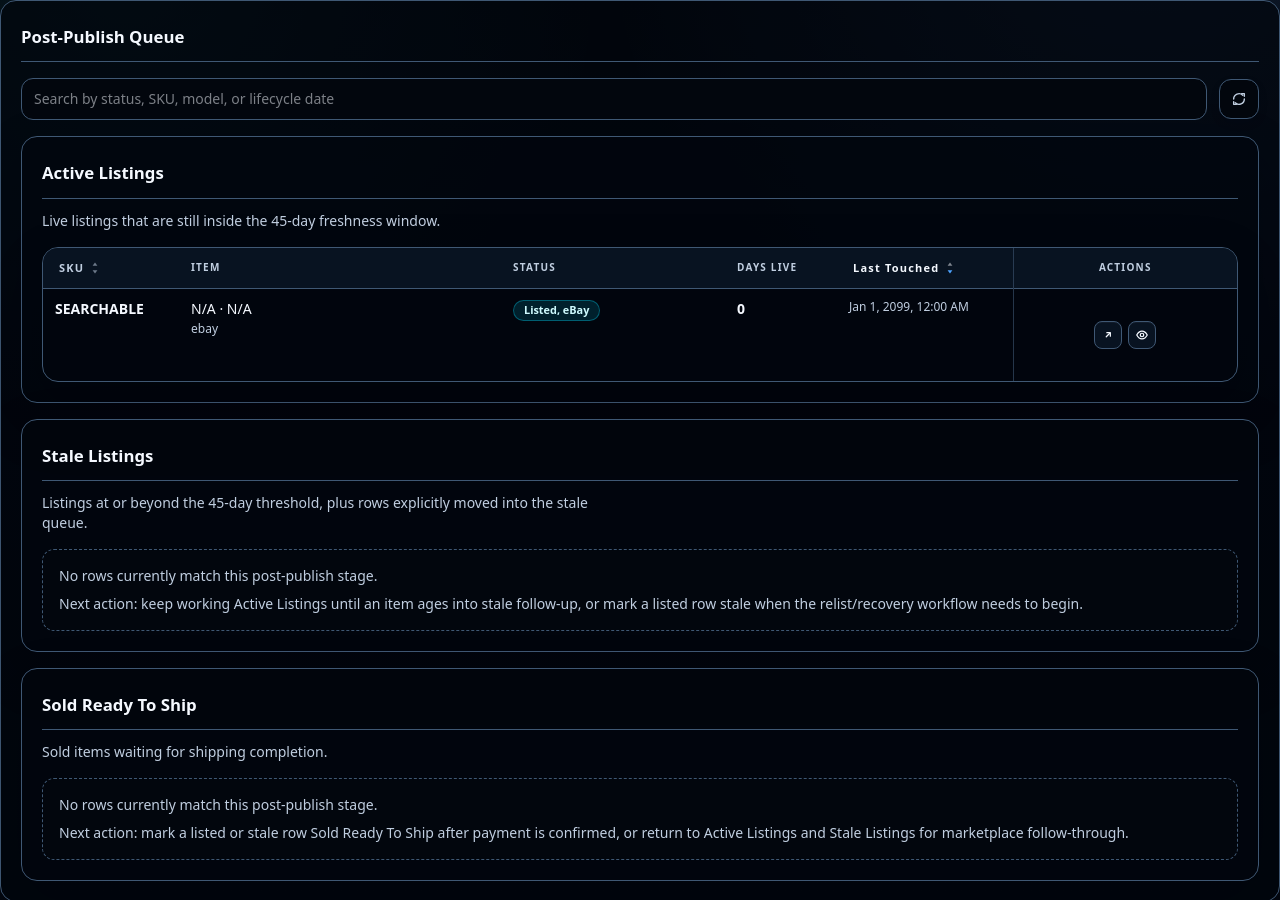
UsedGearWorkflowPostPublishSection › distinguishes a global search with no matches from a genuinely empty queue
Expected: the text "SEARCHABLE" is shown, [55,299,144,318]
In the field named "Search used gear post-publish queue": (614, 99) [21,78,1207,120], type "no-matching-listing"
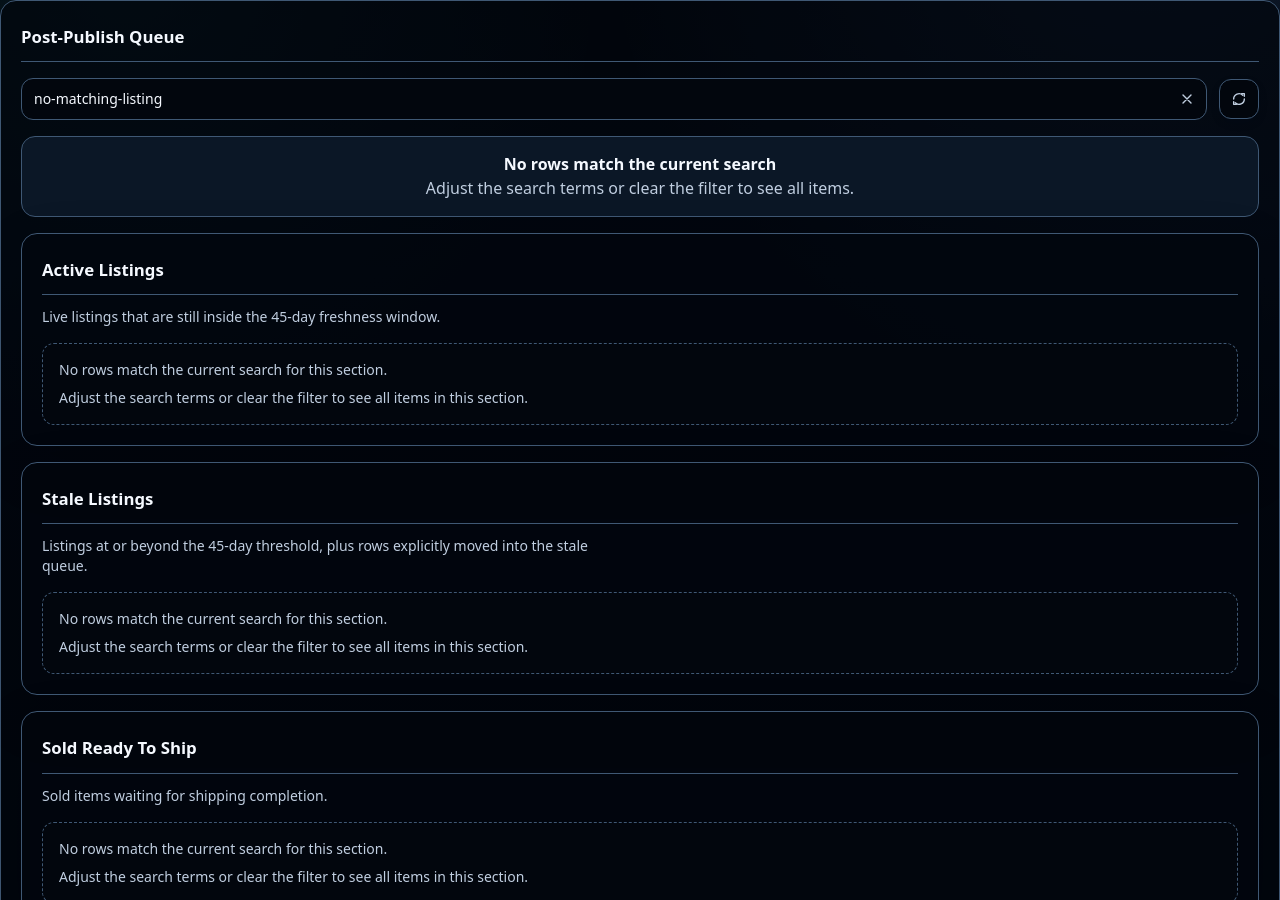
Now the text "No rows match the current search" is shown, box [504,153,776,175]
